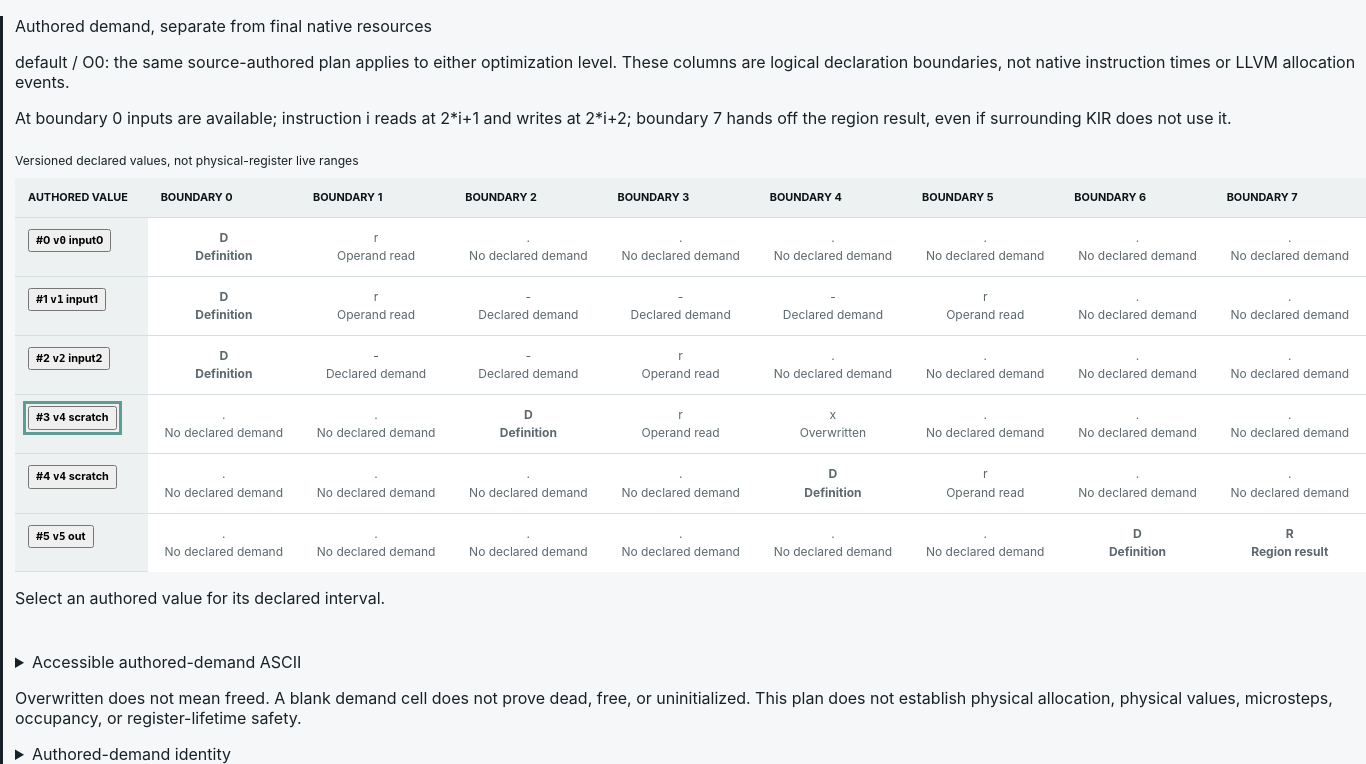
Scenario: renders accessible grid/ASCII and clears selection on profile or optimization replacement
Later steps or results of the test are not shown.
Check: the table named "Authored value demand by logical boundary" is shown, box [15,144,1365,572]
Type keys " "
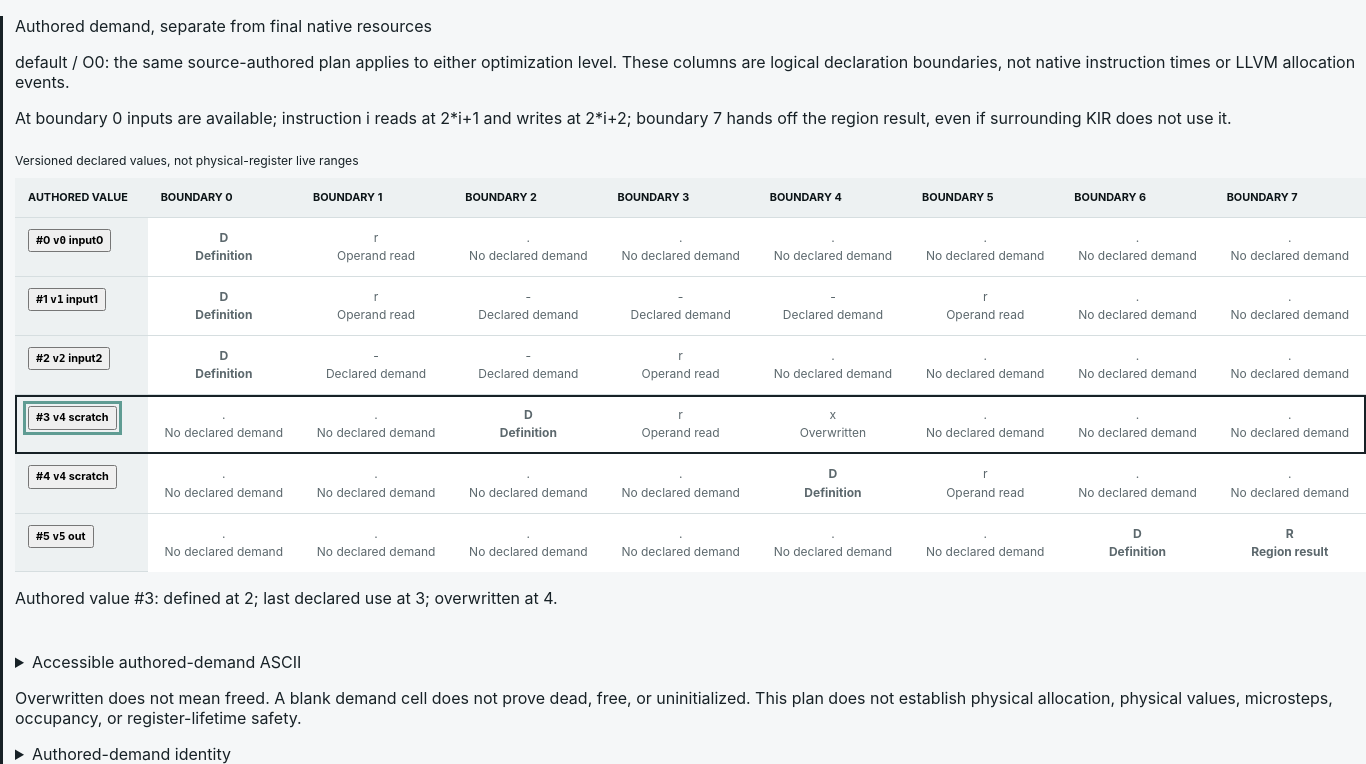
Click the heading "Accessible authored-demand ASCII". click: click(167, 662)
box: [32,652,301,672]
(page scrolled)
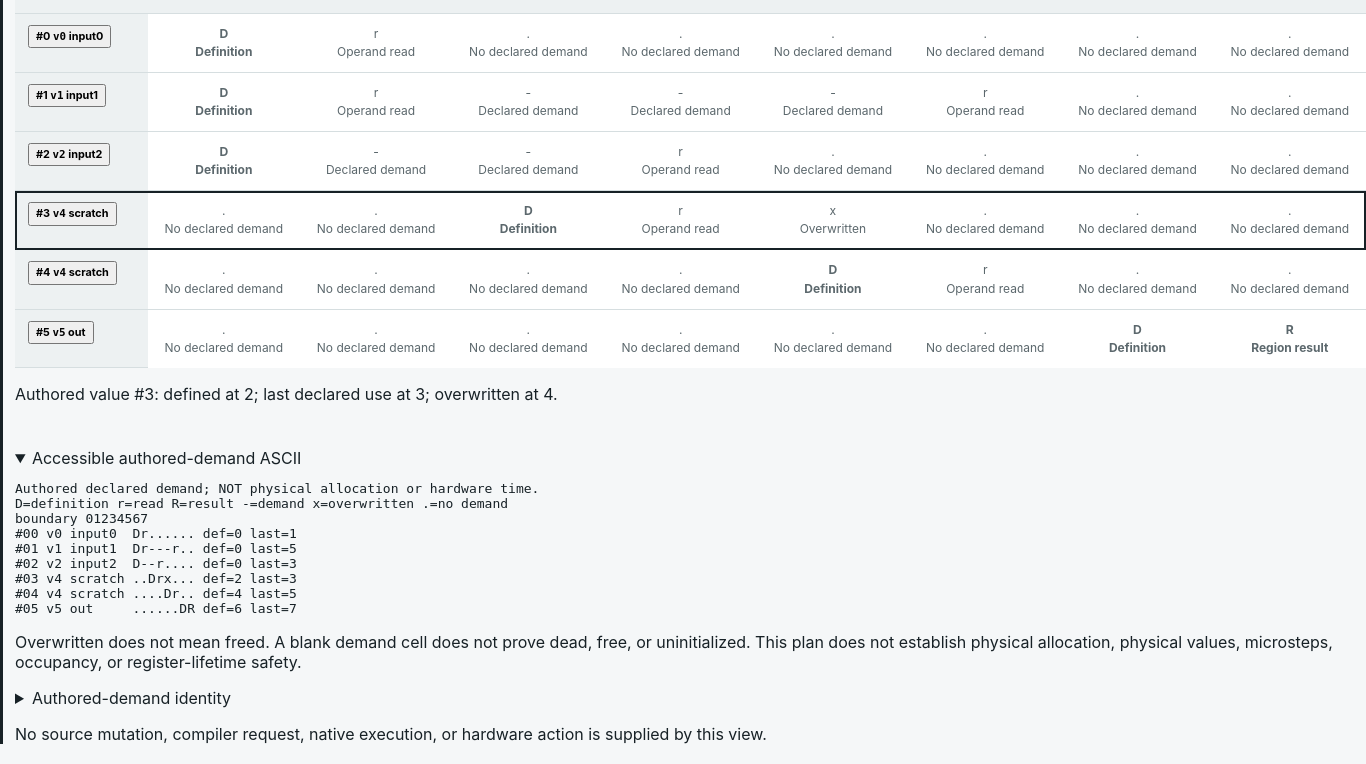
Check: the element named "Authored-demand ASCII" shows "NOT physical allocation", box [15,482,539,616]
